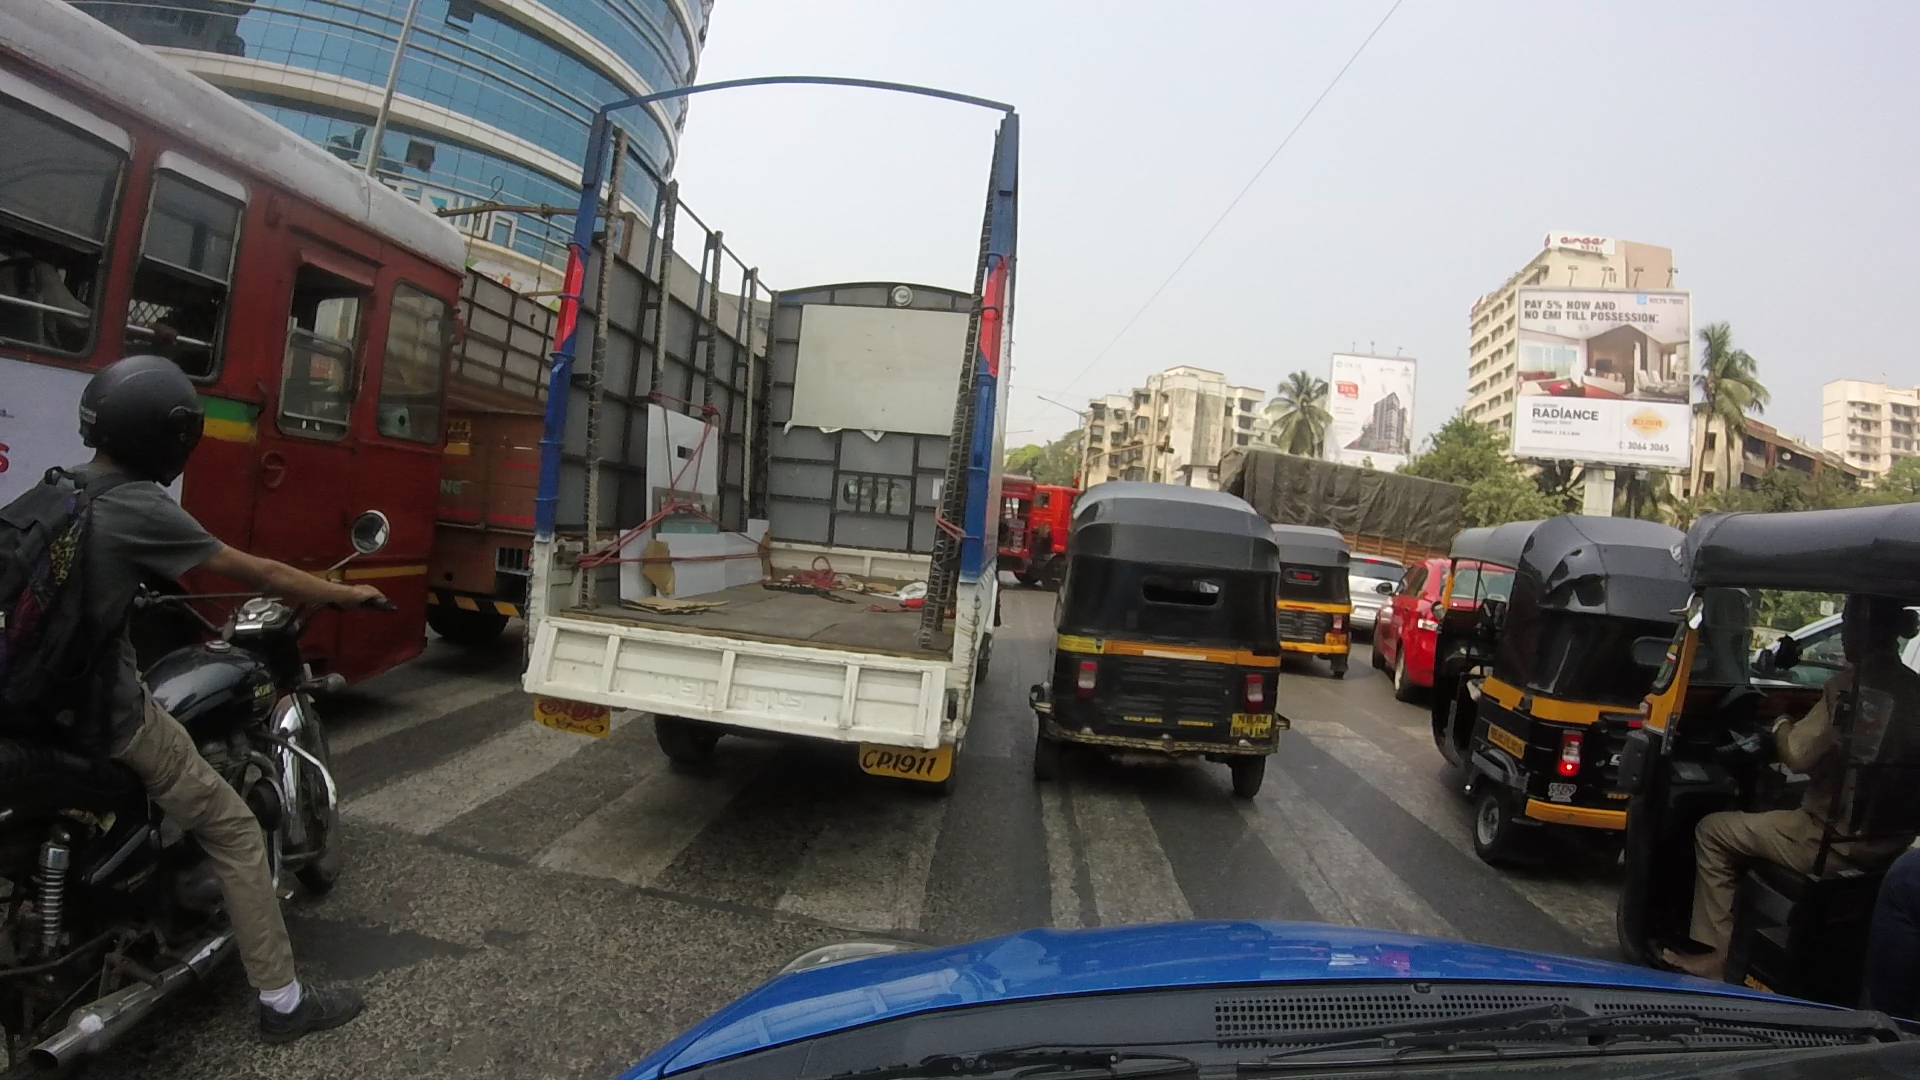bike/scooter: (1, 363, 382, 1065)
bus: (4, 1, 471, 666)
car: (1377, 527, 1451, 690)
rickshaw: (1658, 498, 1920, 982), (1415, 504, 1683, 860), (1048, 465, 1295, 781), (1245, 477, 1374, 690)
truck: (506, 45, 1046, 745)
